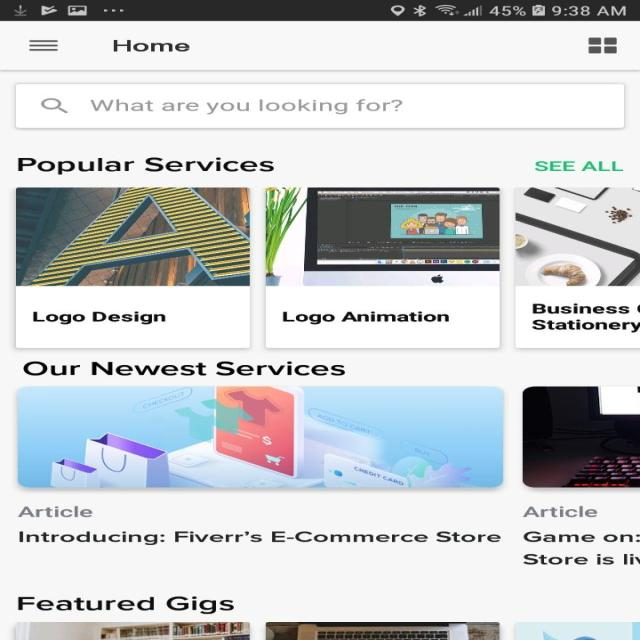EditText: (15, 83, 624, 128)
Icon: (587, 37, 617, 54), (41, 98, 68, 113), (28, 39, 58, 52)
Image: (17, 386, 500, 488), (16, 187, 250, 286), (264, 187, 500, 285), (515, 187, 639, 286), (520, 386, 638, 488), (264, 621, 500, 639), (15, 622, 250, 640), (515, 622, 639, 640)
Text: (18, 530, 500, 545), (90, 98, 402, 115), (22, 360, 345, 376), (17, 157, 274, 174), (522, 530, 640, 565), (18, 596, 234, 614), (530, 302, 640, 333), (282, 310, 449, 324), (31, 310, 166, 324), (17, 505, 92, 518), (112, 40, 190, 52), (522, 505, 598, 517), (534, 161, 622, 171)
